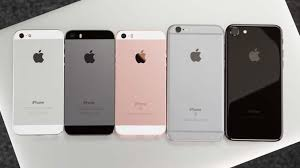iphone: (224, 21, 284, 143), (113, 30, 167, 143), (62, 26, 116, 139), (13, 25, 67, 138)
